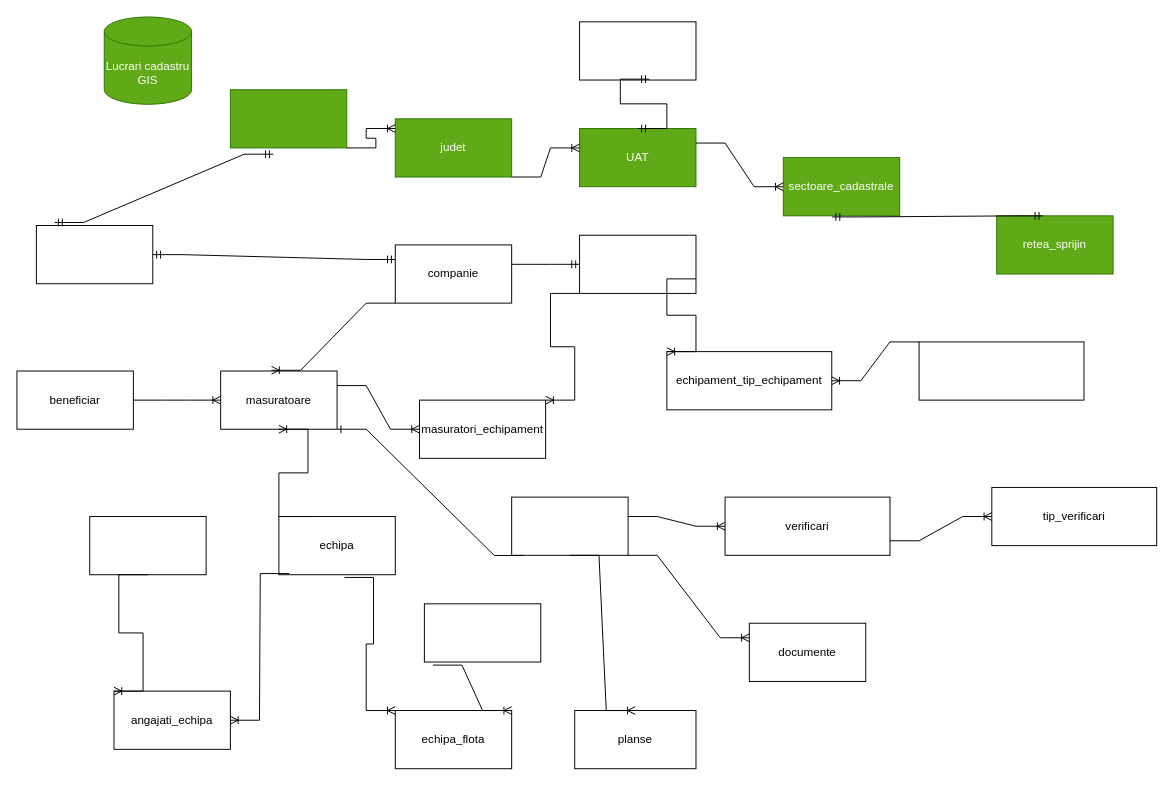
Some shapes in this 1174 by 786 pixel diagram are drawn without their labels. Here are the shapes that lost their labels. From the top down, the centre of each, then its label:
the point at 637,50: primarie
the point at 288,118: tara
the point at 94,254: ANAF
the point at 637,263: echipament
the point at 1001,370: tip_echipament
the point at 147,545: angajati
the point at 569,525: dosar
the point at 482,632: flota
